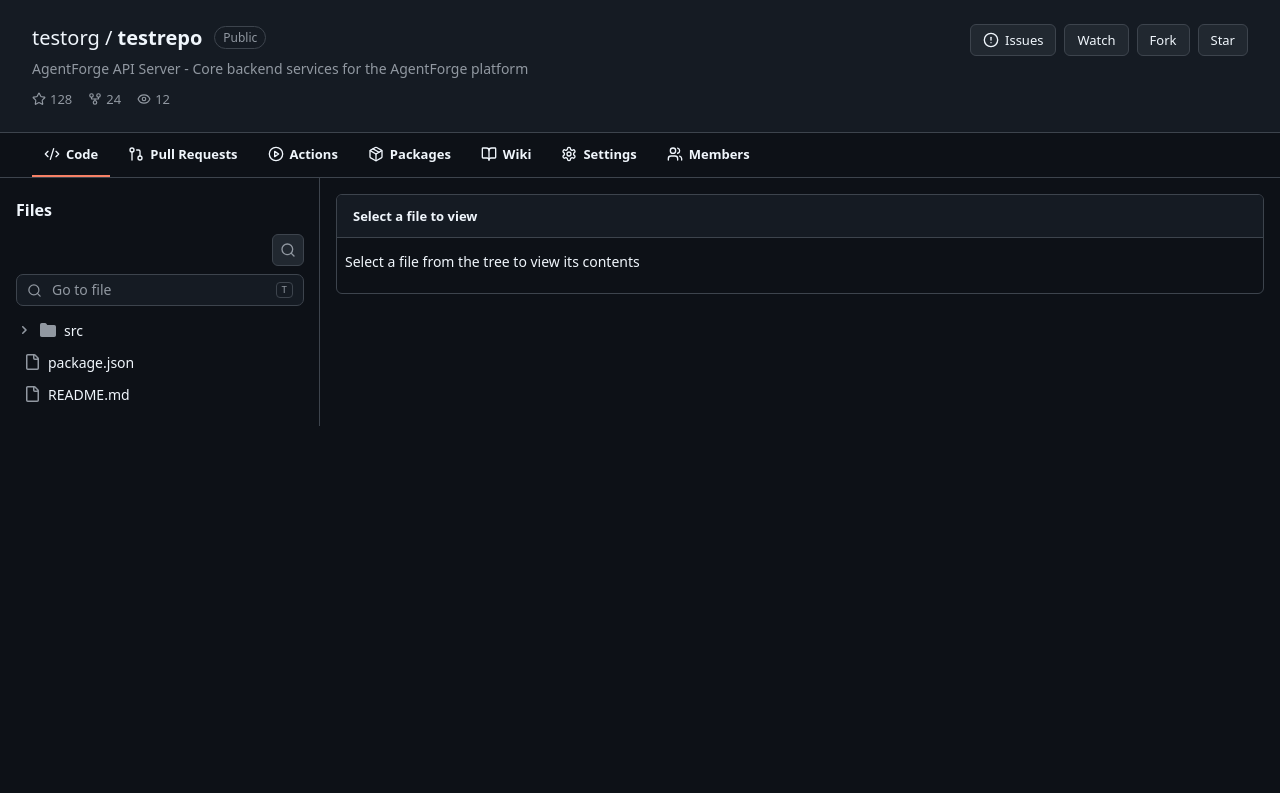
Test: RepositoryDetailPage - Pull Requests Tab › searches PRs by title
Step 1. Click the tab "Pull Requests" → point(183, 155), box [116, 133, 250, 177]
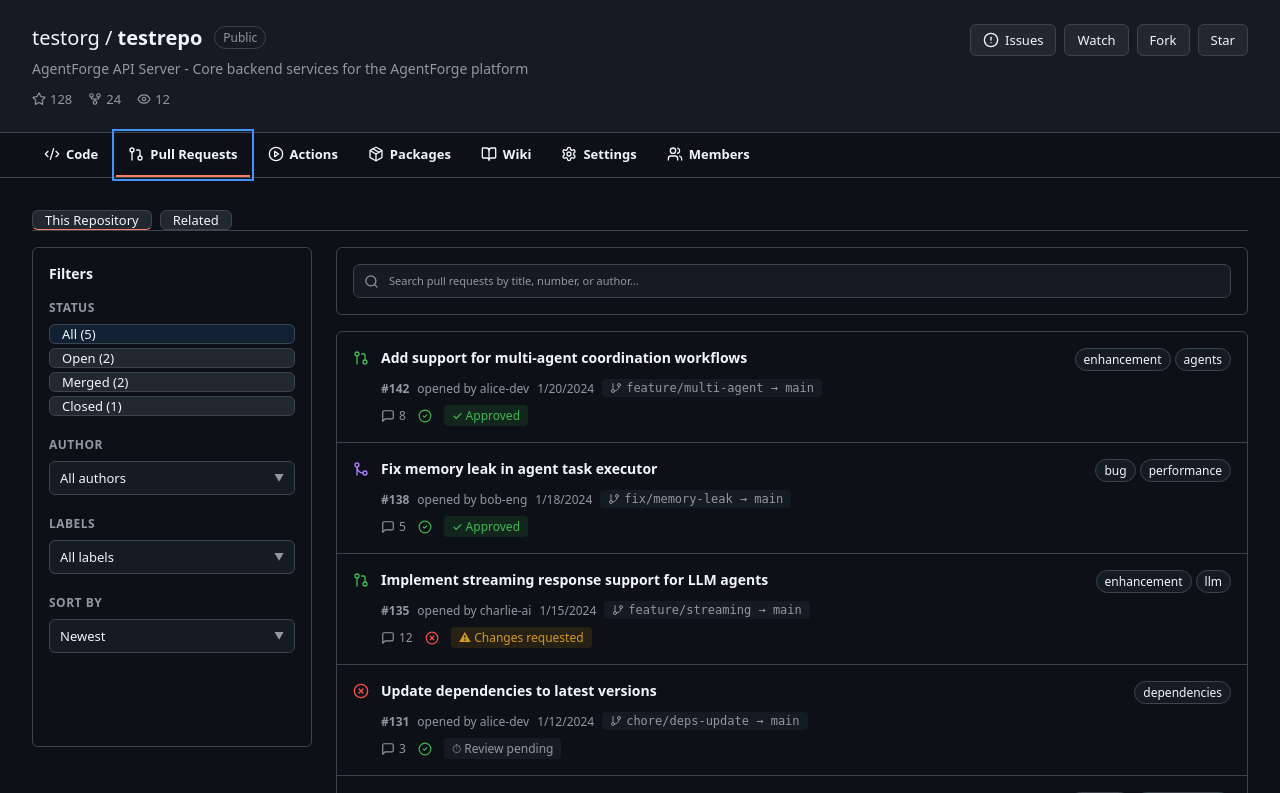
Check: the field with placeholder "Search pull requests by title, number, or author..." is shown
Step 2. Type "streaming" into the field with placeholder "Search pull requests by title, number, or author..." → point(804, 281), box [387, 271, 1220, 291]
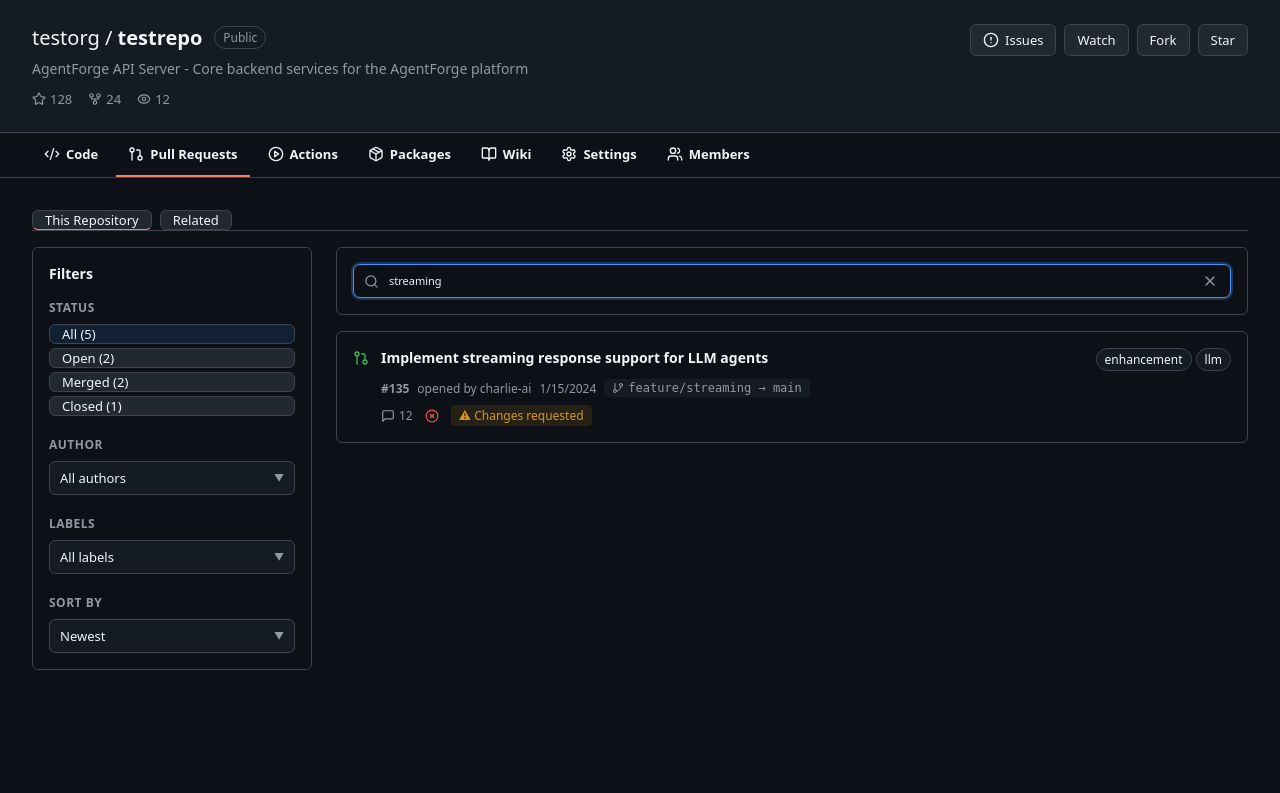
Check: the heading "Implement streaming response support for LLM agents" is shown, box [381, 348, 768, 367]
Check: the heading "Add support for multi-agent coordination workflows" is gone
